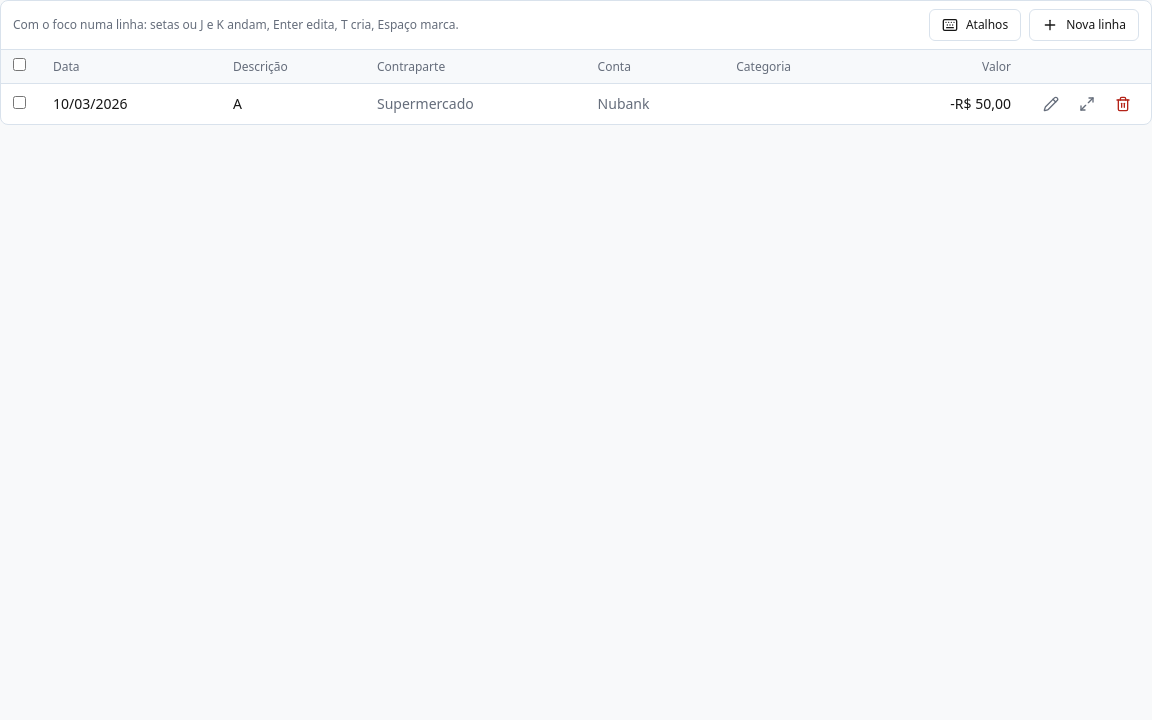
Test: o botao Atalhos mostra as teclas e fecha
The image size is (1152, 720).
Click the button "Atalhos": click(975, 25) [929,9,1021,41]
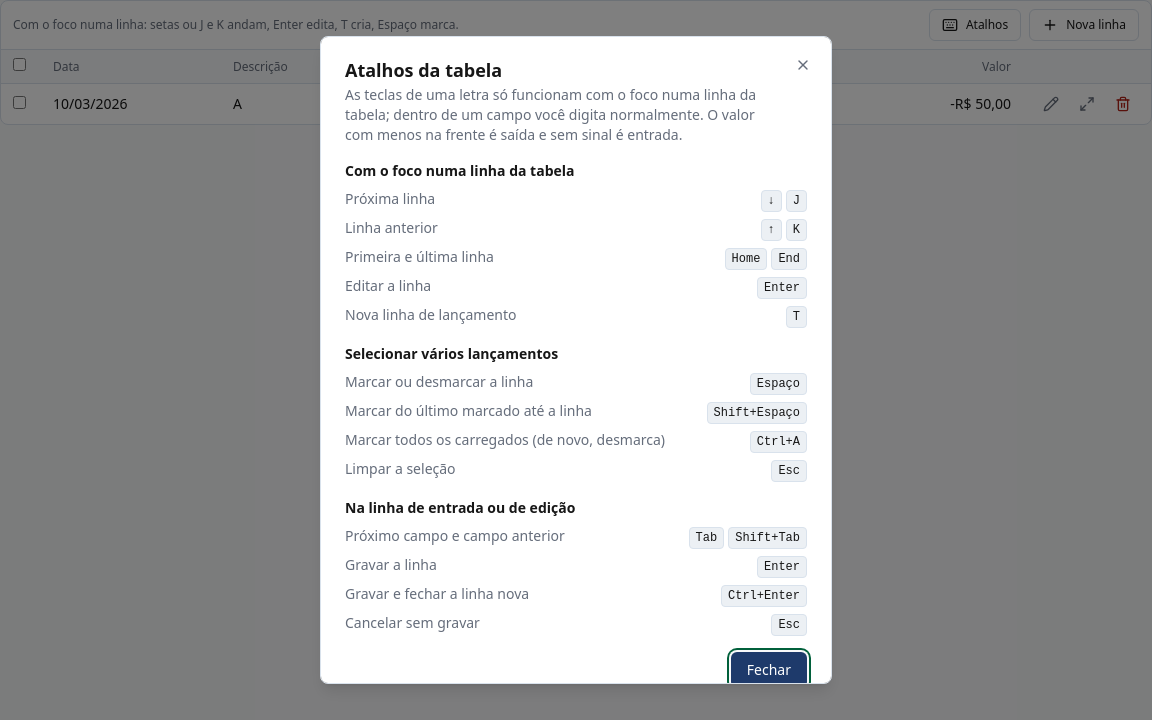
Expected: the element "Com o foco numa linha da tabela" shows "Nova linha de lançamento", [345,305,516,324]
Expected: the element "Na linha de entrada ou de edição" shows "Gravar e fechar a linha nova", [345,584,529,603]
Click the button named "Fechar": click(803, 65) [791,53,815,77]
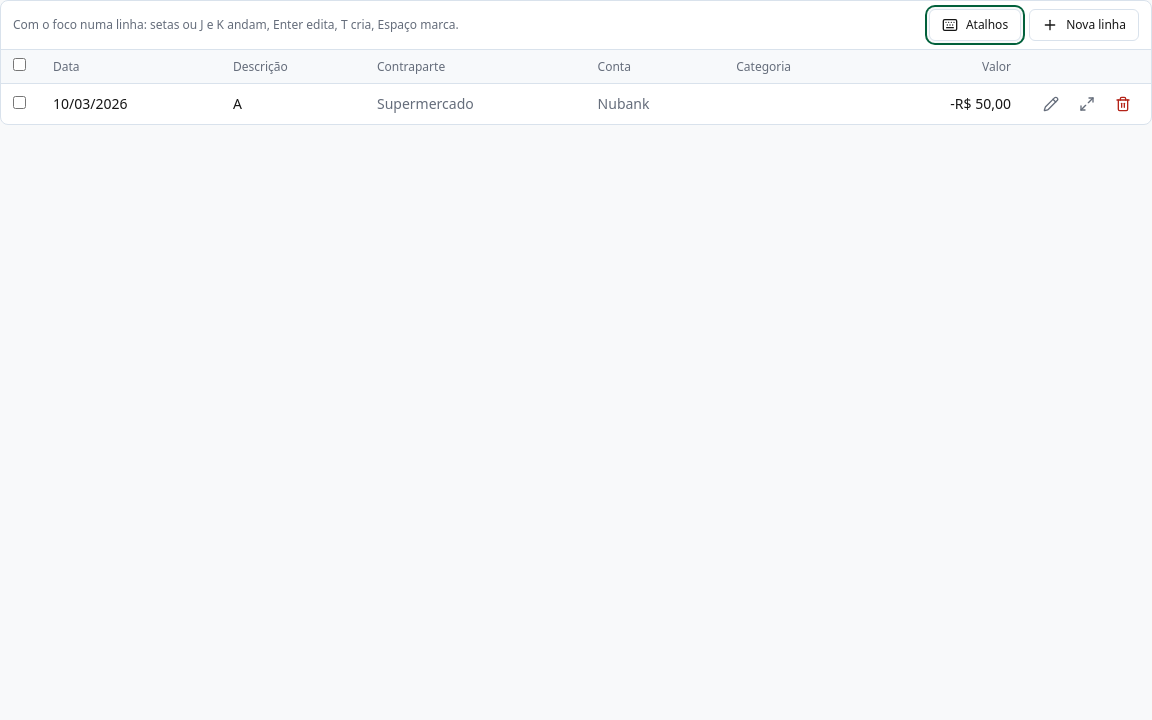
Expected: the dialog is gone
